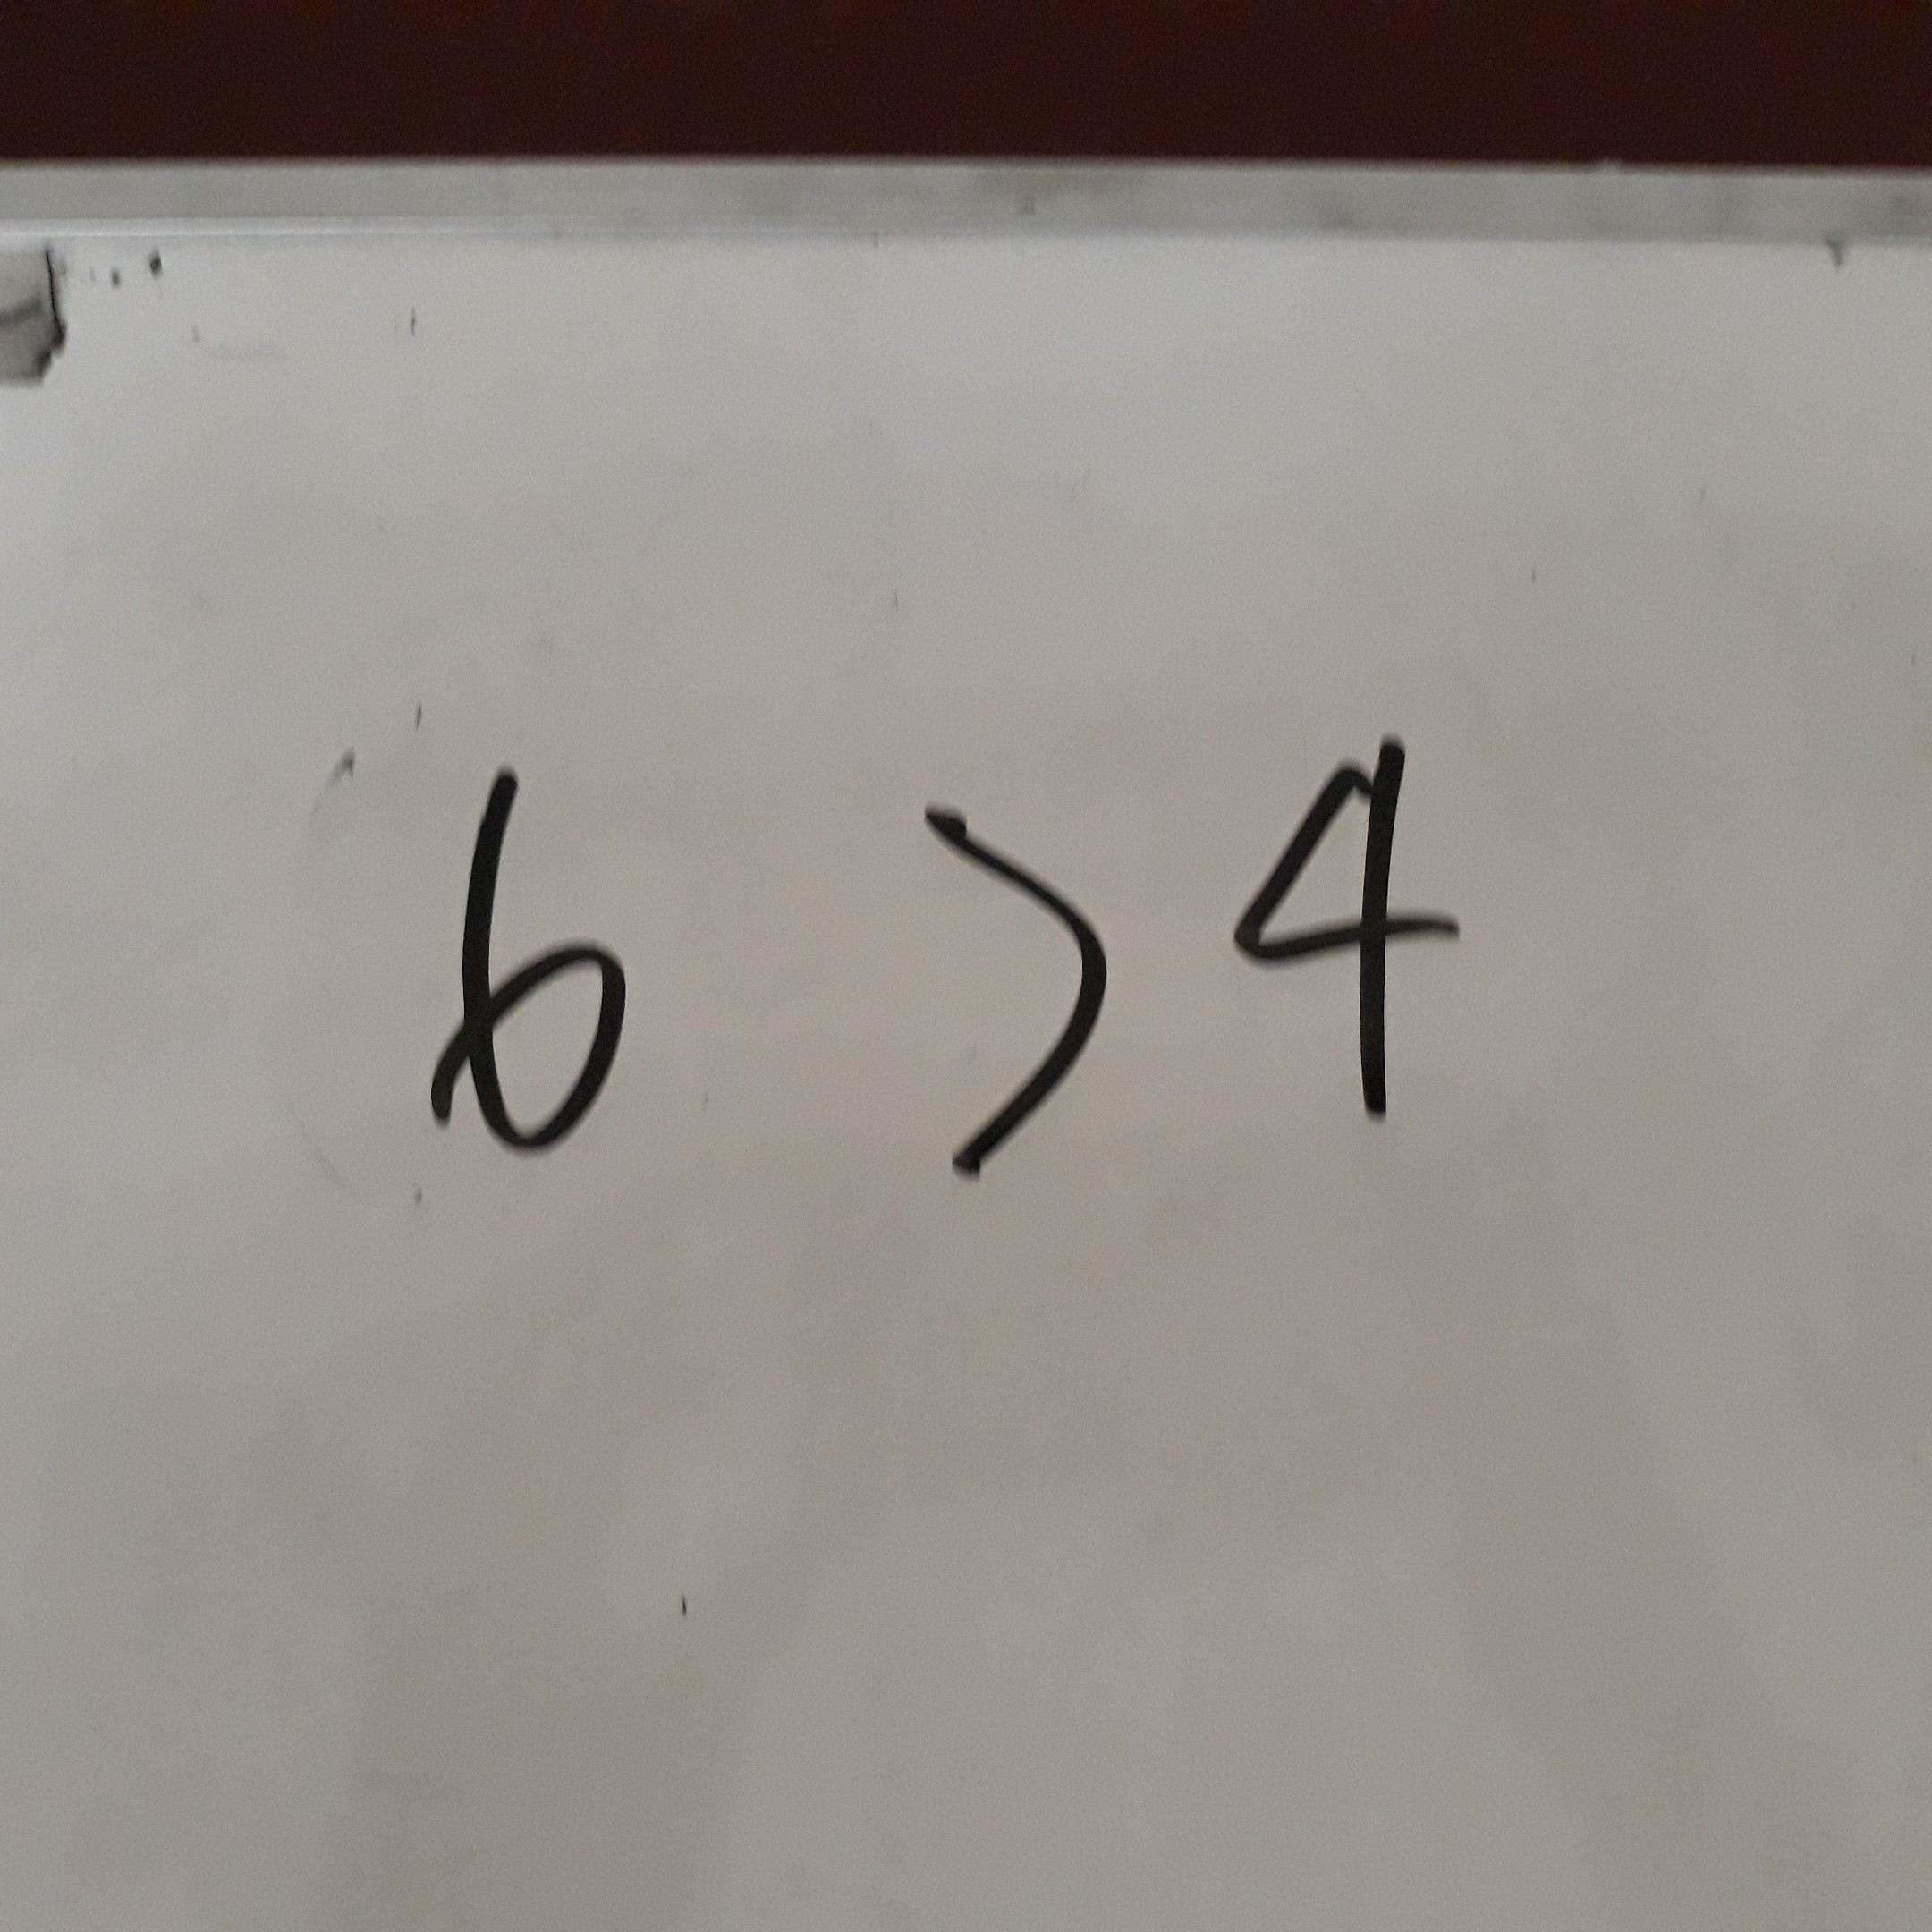morethan: (885, 759, 1153, 1207)
num4: (1216, 701, 1485, 1148)
num6: (399, 742, 667, 1190)
